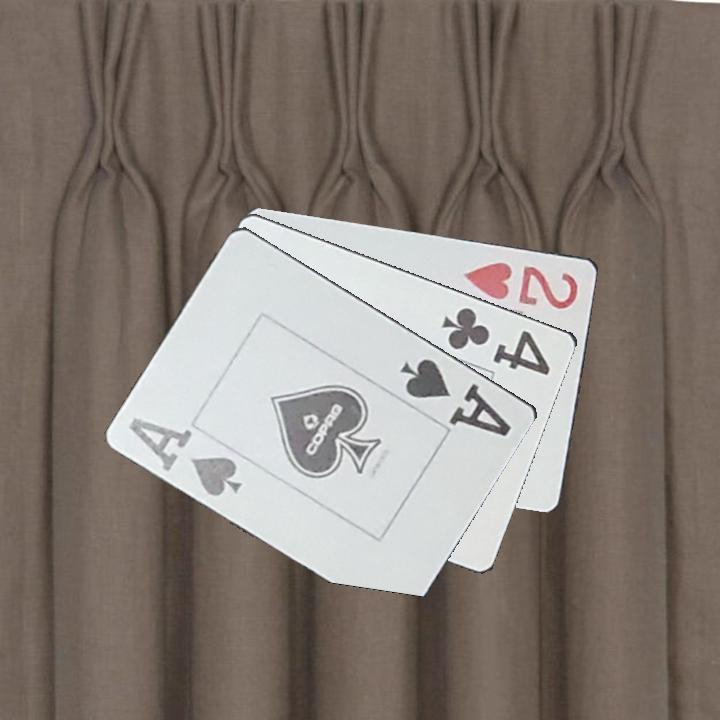2h: (460, 258, 582, 312)
4c: (438, 303, 554, 378)
As: (125, 413, 245, 500), (396, 354, 516, 440)
